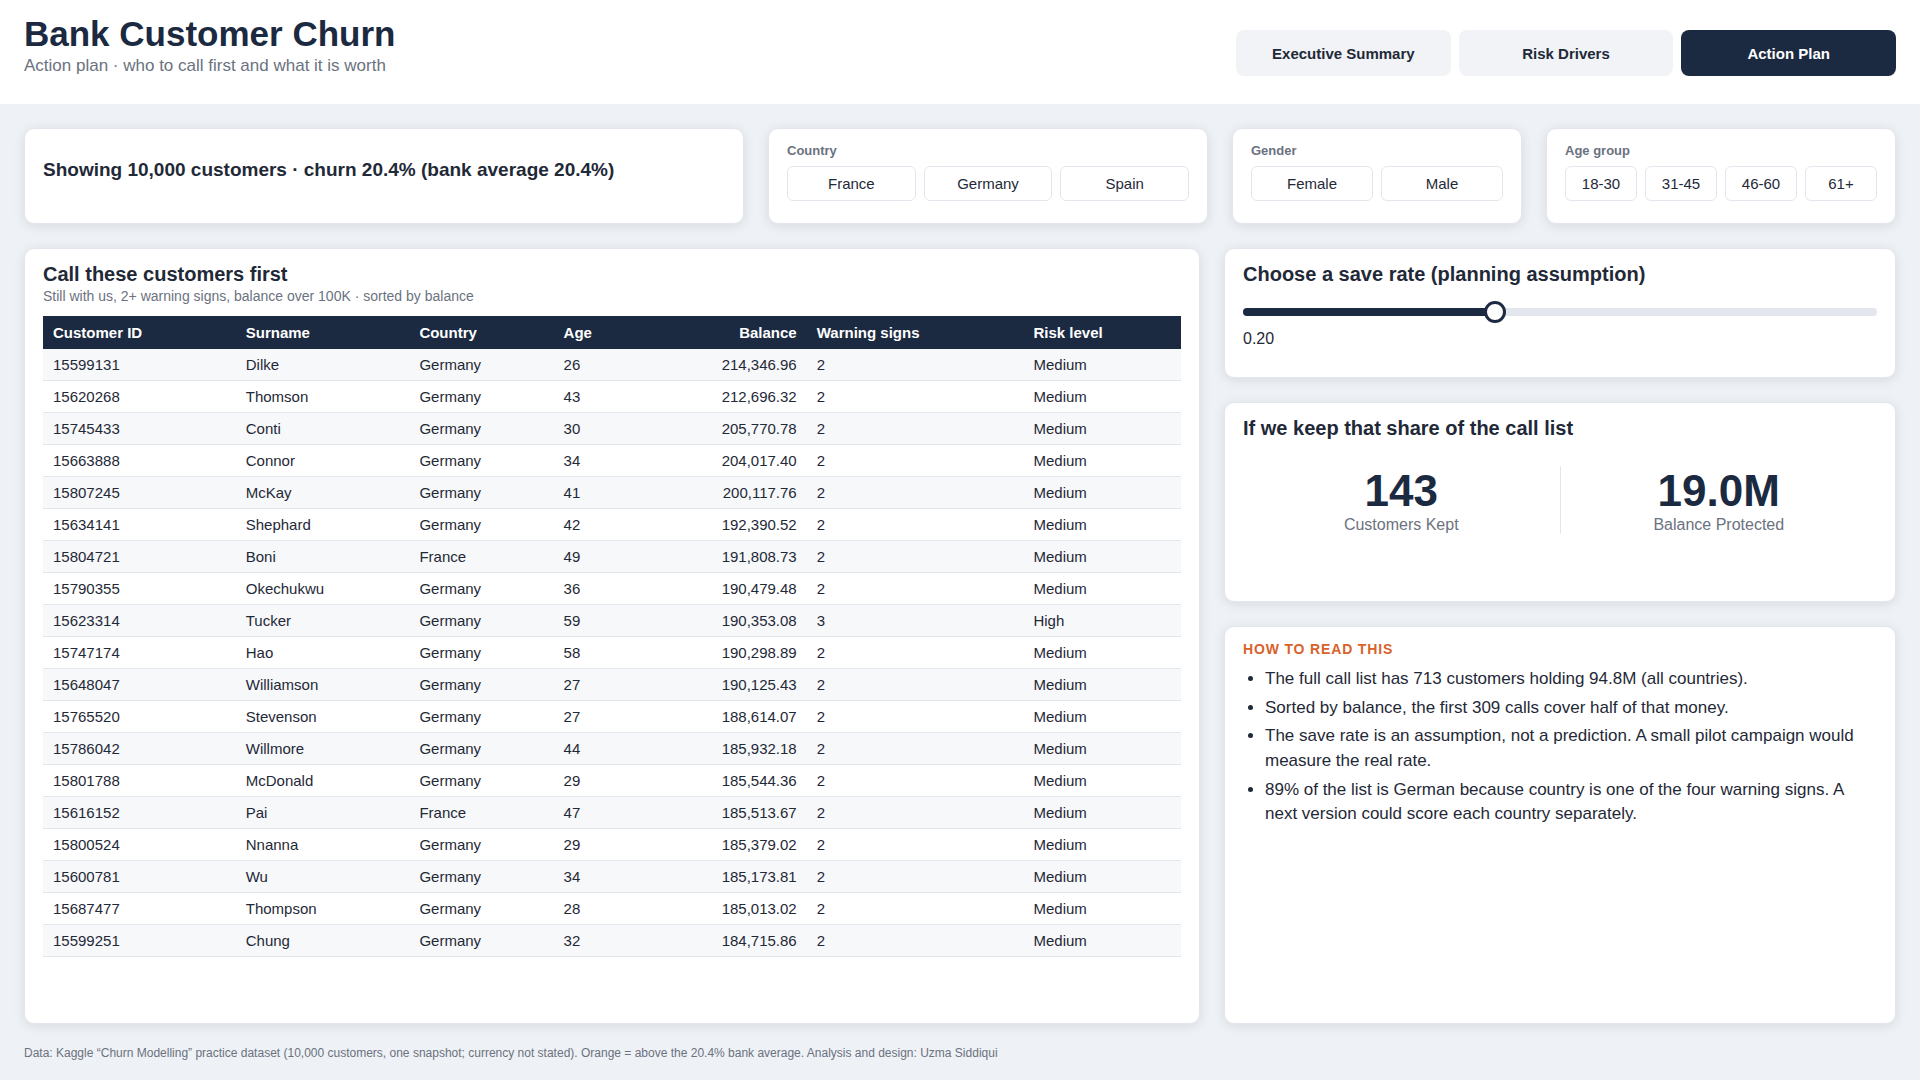

The page's visual inventory and layout, read from the dashboard file:
{"tool":"powerbi","page":{"name":"Action Plan","canvas":[1920,1080],"ordinal":2},"visuals":[{"type":"textbox","box":[0,0,1920,104],"z":0},{"type":"textbox","box":[24,1040,1872,34],"z":500},{"type":"cardVisual","fields":{"Data":["_Measures.Subtitle"]},"box":[24,128,720,96],"z":1000},{"type":"slicer","fields":{"Values":["Customers.Geography"]},"box":[768,128,440,96],"z":1000},{"type":"slicer","fields":{"Values":["Customers.Gender"]},"box":[1232,128,290,96],"z":1000},{"type":"slicer","fields":{"Values":["Customers.AgeGroup"]},"box":[1546,128,350,96],"z":1000},{"type":"tableEx","title":"Call these customers first","fields":{"Values":["Customers.CustomerId","Customers.Surname","Customers.Geography","Customers.Age","Customers.Balance","Customers.RiskPoints","Customers.RiskLevel"]},"box":[24,248,1176,776],"z":2000},{"type":"slicer","title":"Choose a save rate (planning assumption)","fields":{"Values":["Save Rate.Save Rate"]},"box":[1224,248,672,130],"z":2001},{"type":"cardVisual","title":"If we keep that share of the call list","fields":{"Data":["_Measures.Customers Kept","_Measures.Balance Protected"]},"box":[1224,402,672,200],"z":2002},{"type":"textbox","box":[1224,626,672,398],"z":2003},{"type":"pageNavigator","box":[1236,30.8,660.5,72.4],"z":20000}]}

Visuals, with their boxes in screenshot pixels (x1, y1, x2, y2), scaled from the page's 1920x1080 canvas onto the 1920x1080 screenshot:
textbox: BBox(0, 0, 1919, 104)
textbox: BBox(24, 1040, 1896, 1074)
cardVisual - _Measures.Subtitle: BBox(24, 128, 744, 224)
slicer - Customers.Geography: BBox(768, 128, 1208, 224)
slicer - Customers.Gender: BBox(1232, 128, 1522, 224)
slicer - Customers.AgeGroup: BBox(1546, 128, 1896, 224)
"Call these customers first" tableEx: BBox(24, 248, 1200, 1024)
"Choose a save rate (planning assumption)" slicer: BBox(1224, 248, 1896, 378)
"If we keep that share of the call list" cardVisual: BBox(1224, 402, 1896, 602)
textbox: BBox(1224, 626, 1896, 1024)
pageNavigator: BBox(1236, 31, 1896, 103)
